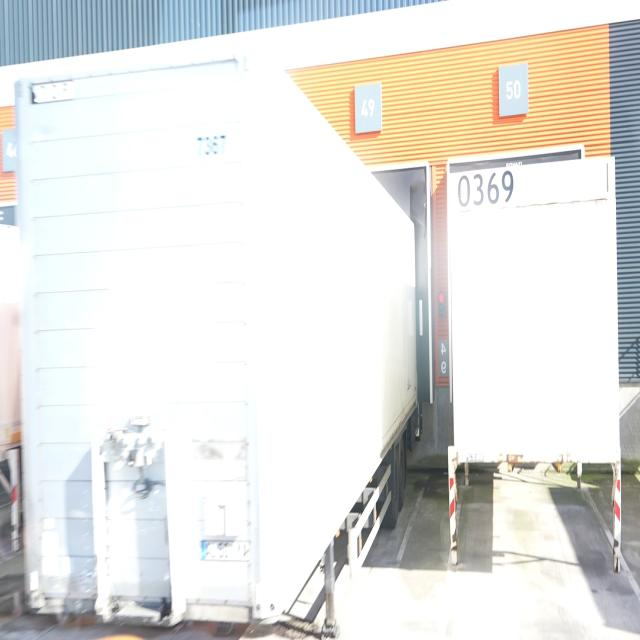Code: (448, 163, 520, 215)
